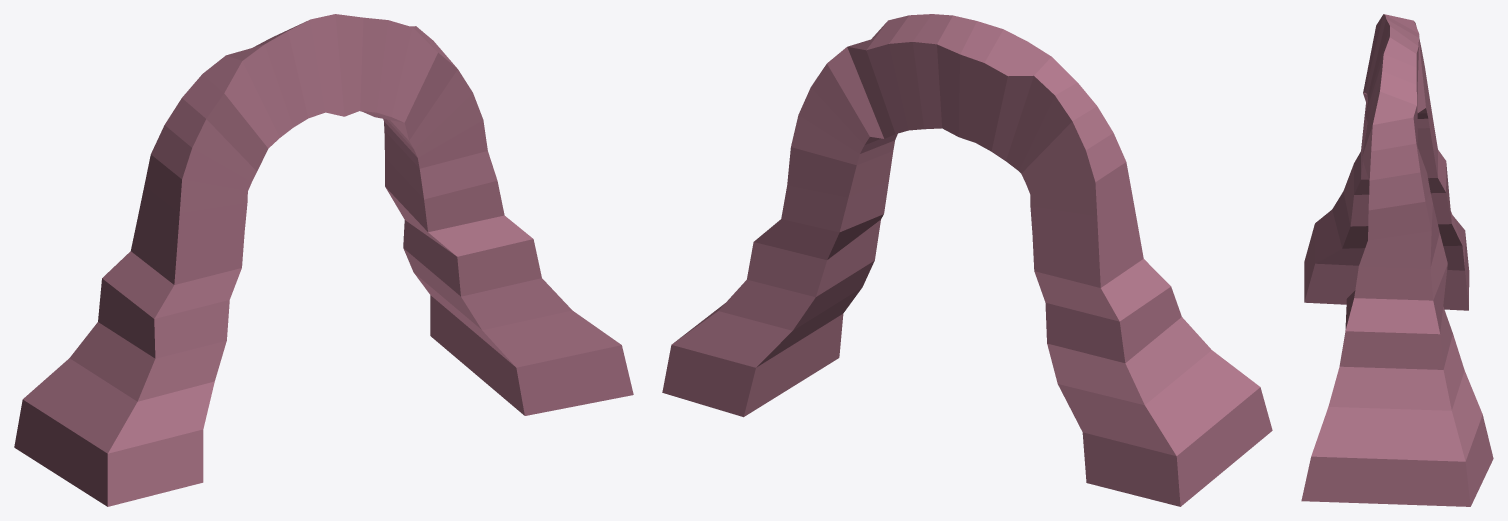
Rendered from Arch_03.fbx.
3 views of the same model, side by side, from view 1: azimuth 30°, elevation 25°; view 2: azimuth 150°, elevation 25°; view 3: azimuth 270°, elevation 25° (orthographic). The views are drawn at different scales.
Parts seen in each view (by area): view 1: Arch_03; view 2: Arch_03; view 3: Arch_03.
Part boxes in pixels (<box>): Arch_03: <box>14,14,633,506</box>; Arch_03: <box>662,14,1272,506</box>; Arch_03: <box>1301,14,1493,506</box>.
Size of the model in its own units: 2086 by 1565 by 749.
